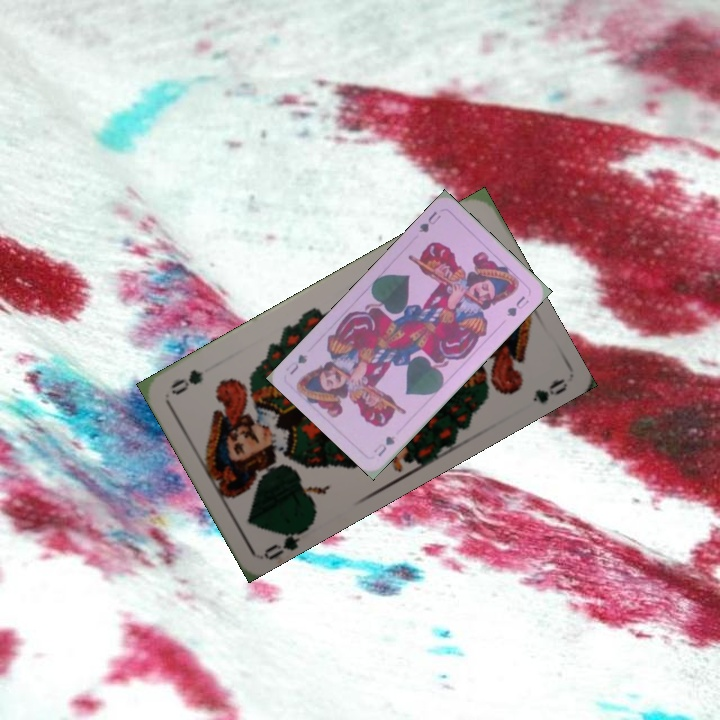GO: (260, 521, 313, 562)
GU: (415, 207, 444, 235), (369, 432, 398, 459)
